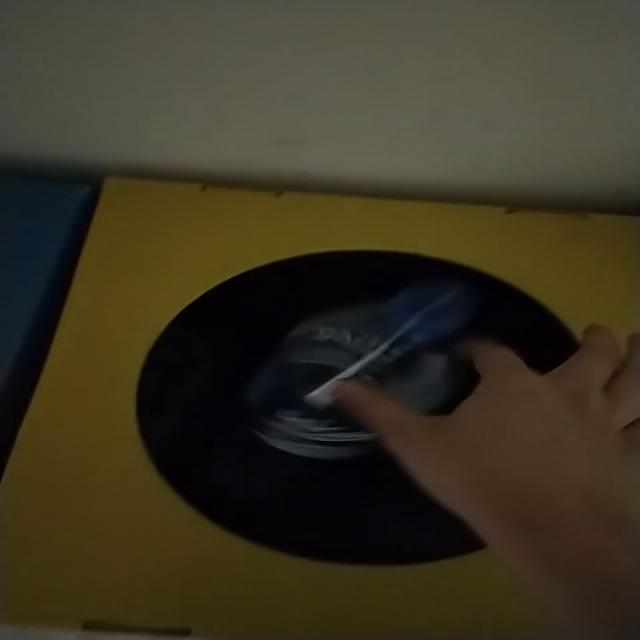Plastic: (248, 279, 477, 460)
